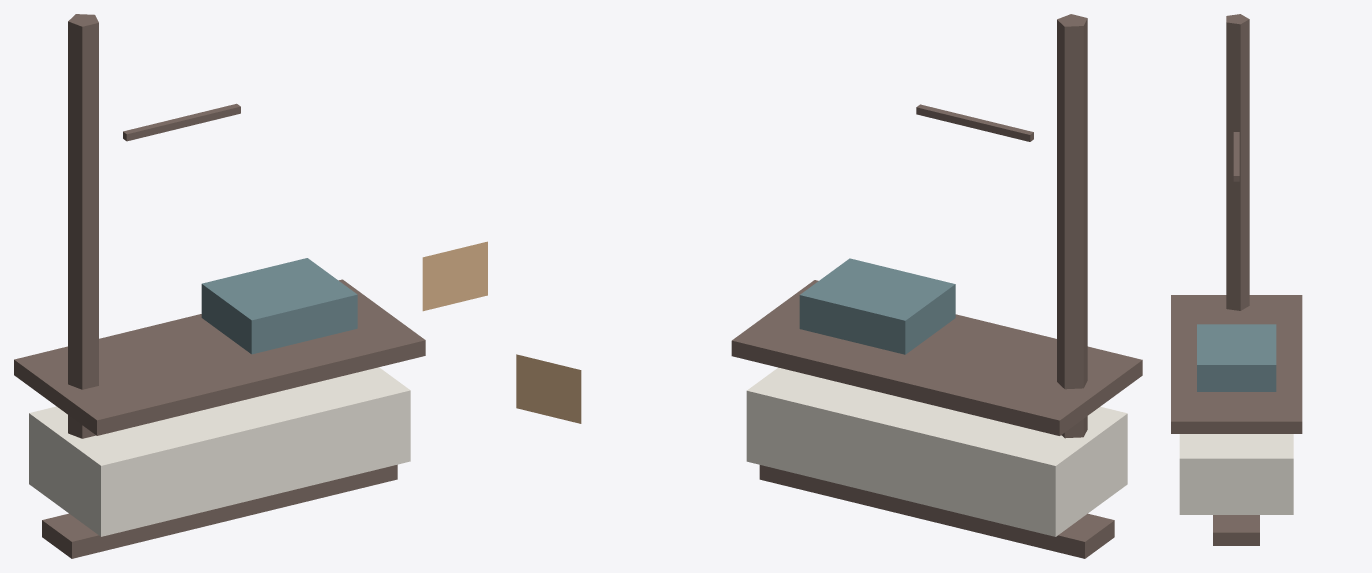
File: harbour-repair-boat-01.glb
3 views of the same model, side by side, from view 1: azimuth 30°, elevation 25°; view 2: azimuth 150°, elevation 25°; view 3: azimuth 270°, elevation 25° (orthographic). The views are drawn at different scales.
Visible parts, largest first — view 1: Hull, Gunwale, Mast, Cockpit, Keel, RepairPatch, Boom; view 2: Hull, Gunwale, Mast, Cockpit, Keel, RepairPatch, Boom; view 3: Gunwale, Hull, Mast, Cockpit, Keel, Boom.
Part boxes in pixels (x1=…): Hull: x1=29, y1=367, x2=410, y2=536; Gunwale: x1=14, y1=279, x2=425, y2=435; Mast: x1=68, y1=14, x2=98, y2=438; Cockpit: x1=201, y1=258, x2=357, y2=354; Keel: x1=42, y1=464, x2=397, y2=558; RepairPatch: x1=422, y1=241, x2=487, y2=311; Boom: x1=123, y1=103, x2=240, y2=141; Hull: x1=746, y1=367, x2=1127, y2=536; Gunwale: x1=731, y1=280, x2=1142, y2=435; Mast: x1=1057, y1=14, x2=1087, y2=438; Cockpit: x1=799, y1=258, x2=955, y2=354; Keel: x1=759, y1=465, x2=1114, y2=558; RepairPatch: x1=516, y1=354, x2=581, y2=423; Boom: x1=916, y1=104, x2=1033, y2=141; Gunwale: x1=1171, y1=295, x2=1302, y2=433; Hull: x1=1179, y1=434, x2=1293, y2=514; Mast: x1=1226, y1=14, x2=1249, y2=310; Cockpit: x1=1197, y1=324, x2=1276, y2=391; Keel: x1=1213, y1=515, x2=1259, y2=545; Boom: x1=1233, y1=132, x2=1239, y2=181.
Size of the model in its own units: 1.87 by 1.83 by 0.755.
